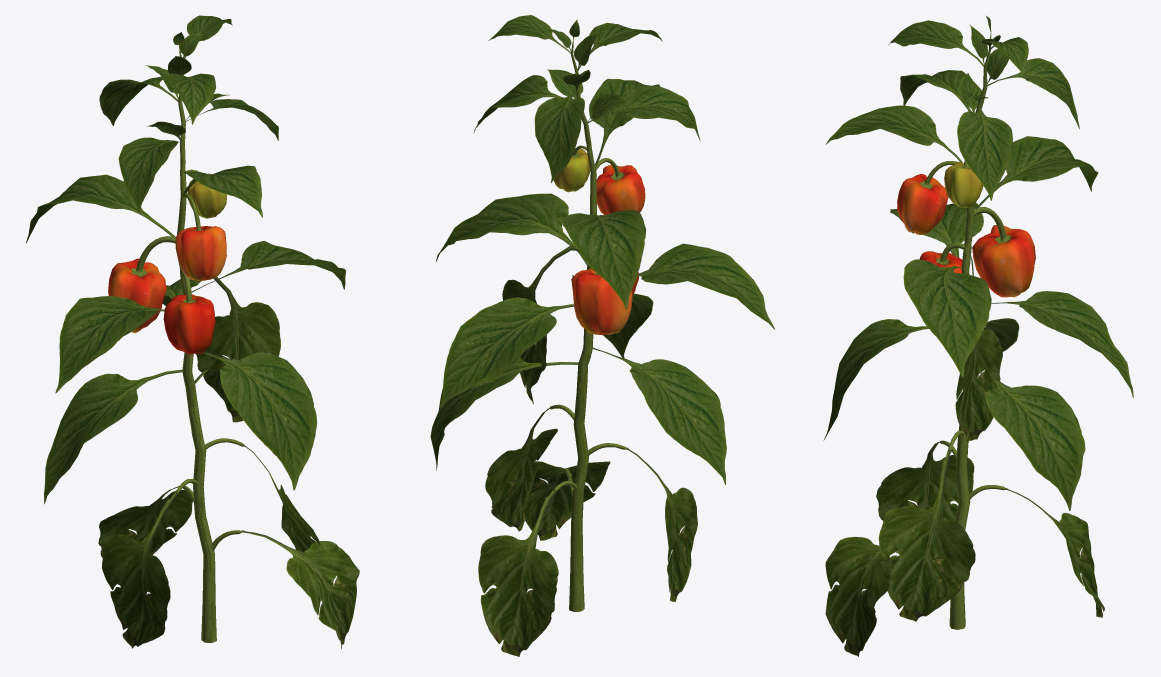
Rendered from paprika-transformed.glb.
The picture shows the model from 3 angles, left to right: view 1: azimuth 30°, elevation 25°; view 2: azimuth 150°, elevation 25°; view 3: azimuth 270°, elevation 25°; orthographic projection.
Parts seen in each view (by area): view 1: 3-leaves; view 2: 3-leaves; view 3: 3-leaves.
Part boxes in pixels (<box>): 3-leaves: <box>26,15,359,649</box>; 3-leaves: <box>430,15,774,656</box>; 3-leaves: <box>823,16,1133,656</box>.
Bounding box in the file's own units: 4.73 × 8.07 × 4.03.
6 materials, 6 textured.
